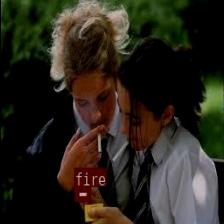fire: (74, 186, 90, 200)
